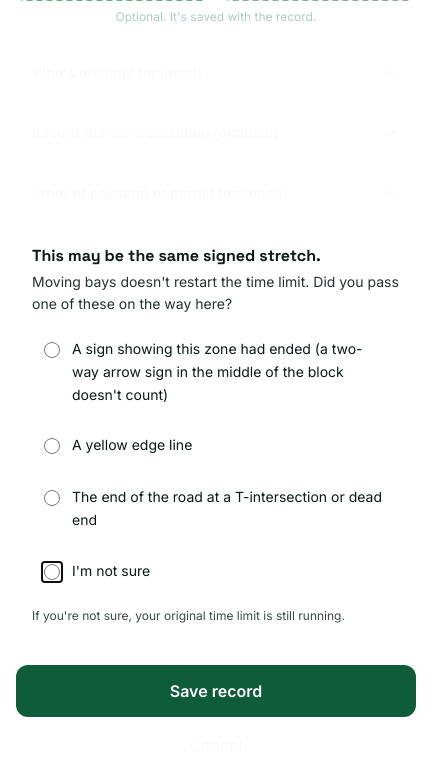
Test case: the boundary question › a named boundary: the new-limit line, and the statement saved as the driver gave it
Later steps or results of the test are not shown.
(page scrolled)
Expected: the element with test id "boundary-question" is shown, 16,228 -> 416,641
Click the radio button labelled "A yellow edge line".
click(52, 446)  # box 44,438 -> 60,454
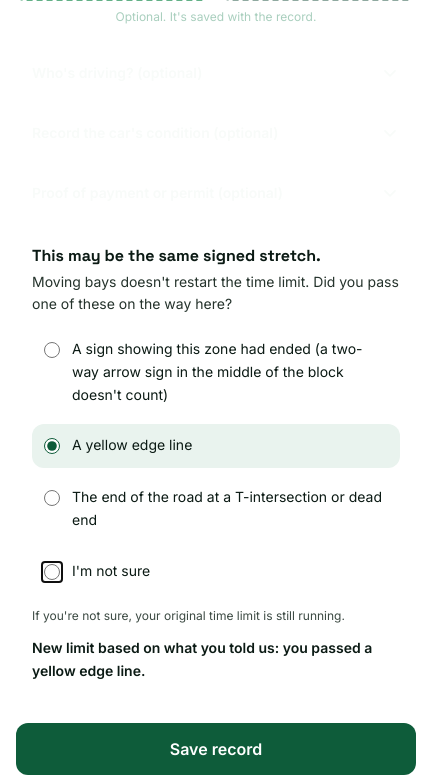
Expected: the text "New limit based on what you told us: you passed a yellow edge line." is shown, 32,637 -> 400,683
